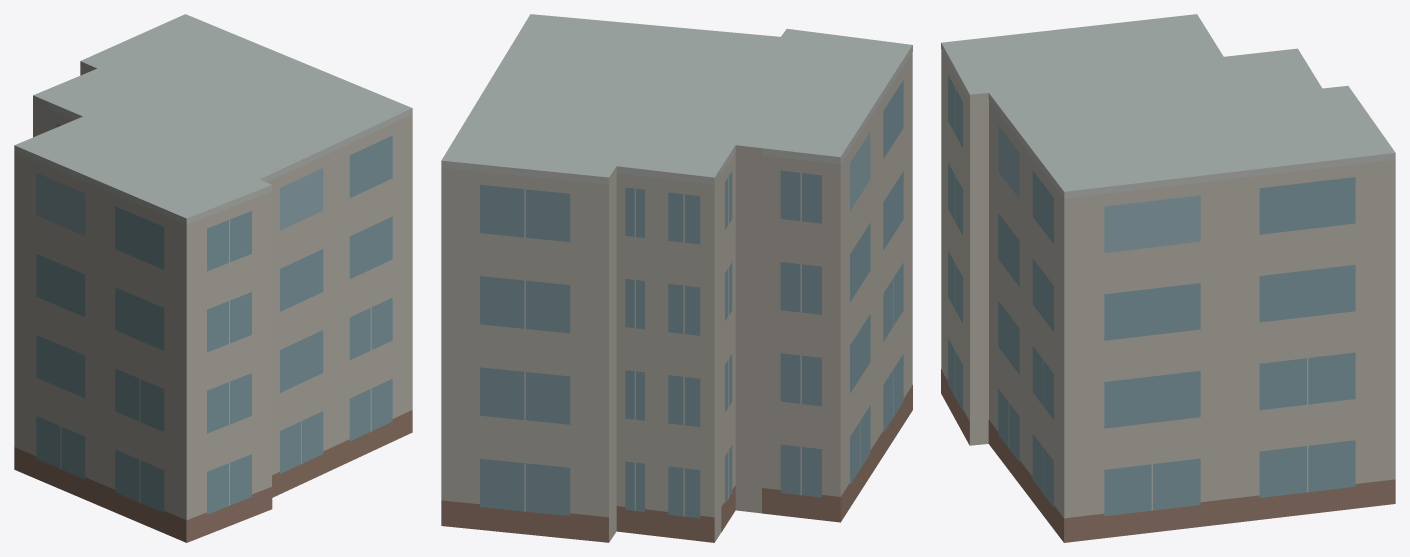
The model's file is survey-upis-32958494.glb.
3 views of the same model, side by side, from view 1: azimuth 30°, elevation 25°; view 2: azimuth 150°, elevation 25°; view 3: azimuth 270°, elevation 25° (orthographic). The views are drawn at different scales.
Parts seen in each view (by area): view 1: survey-upis-32958494.tmp; view 2: survey-upis-32958494.tmp; view 3: survey-upis-32958494.tmp.
Part boxes in pixels (x1,y1,x2,y2): survey-upis-32958494.tmp: [14, 14, 412, 542]; survey-upis-32958494.tmp: [441, 14, 912, 542]; survey-upis-32958494.tmp: [941, 14, 1395, 542].
Bounding box in the file's own units: 13.59 × 12.5 × 14.68.
